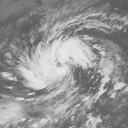cyclone: (3, 4, 119, 99)
